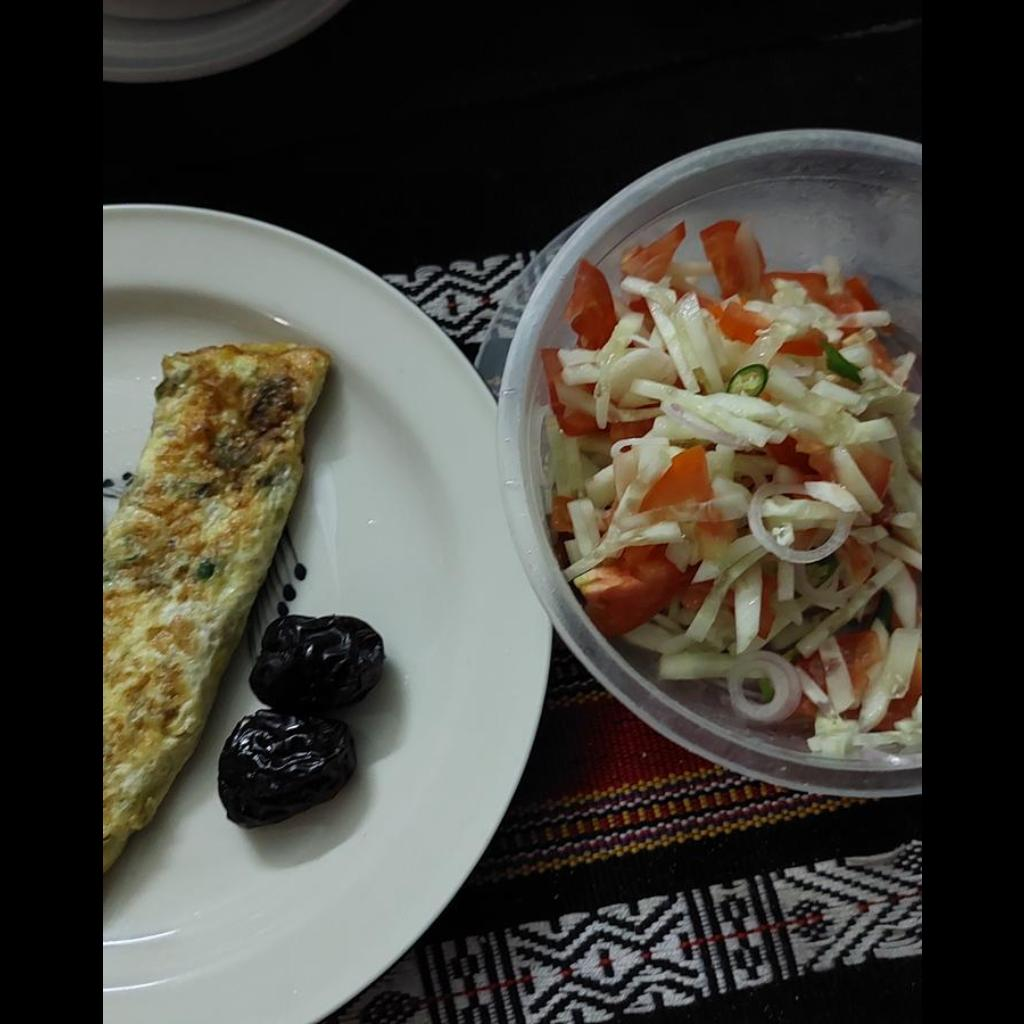dates: (211, 616, 379, 821)
egg-poached: (102, 343, 328, 871)
salad: (553, 231, 918, 742)
